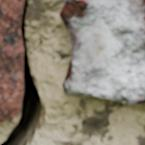brick: (60, 0, 144, 103), (0, 0, 23, 121)
crack: (0, 0, 45, 144)
